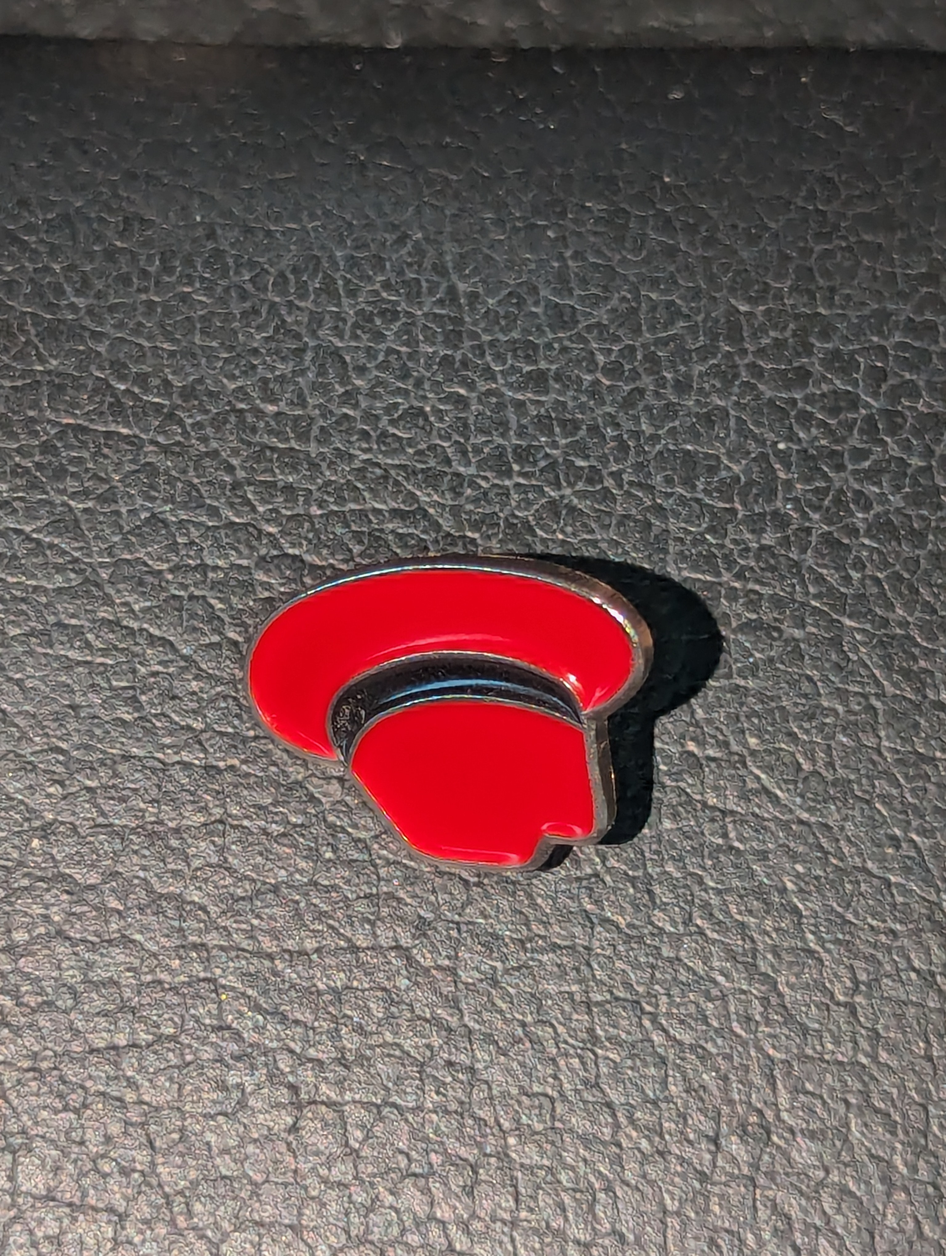Red-Hat: (169, 479, 818, 943)
